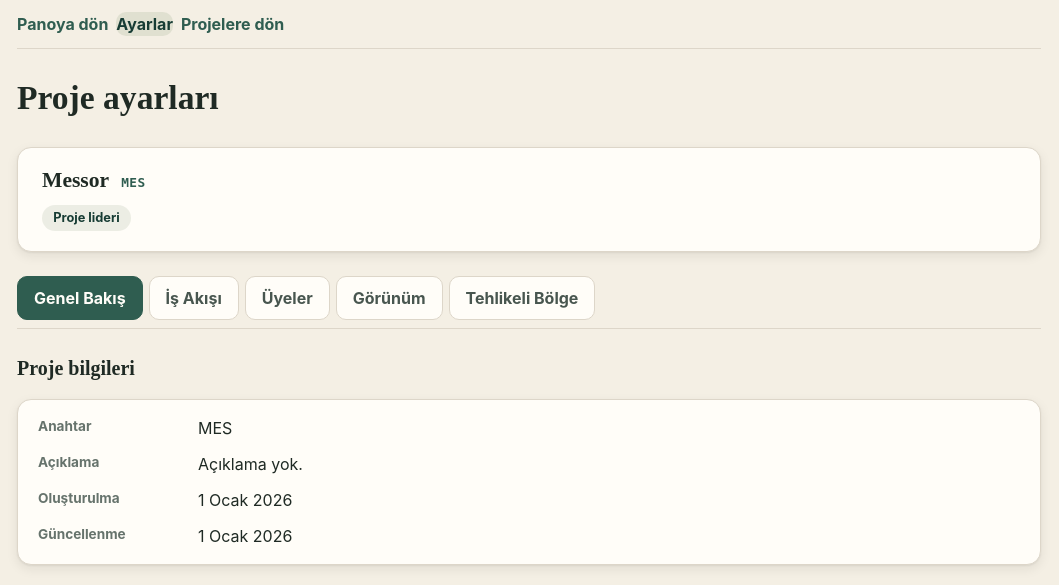
it: ProjectSettingsPage › section navigation › shows an empty message when no workflow statuses exist
This screenshot has width=1059, height=585.
Click the tab "İş Akışı" at (194, 298), box [149, 276, 239, 320]
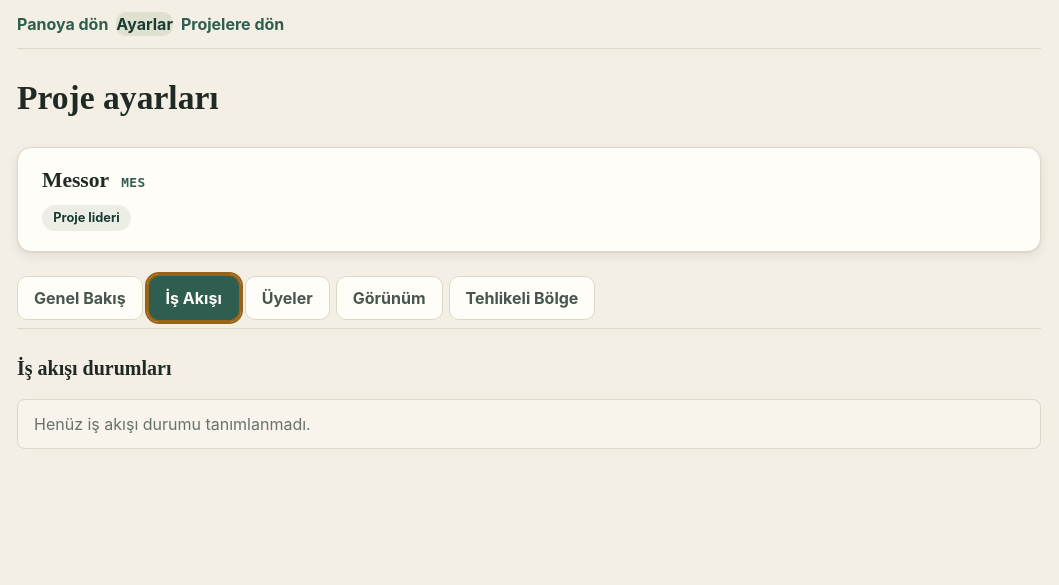
Result: the text "Henüz iş akışı durumu tanımlanmadı." is shown at [17, 399, 1041, 449]
